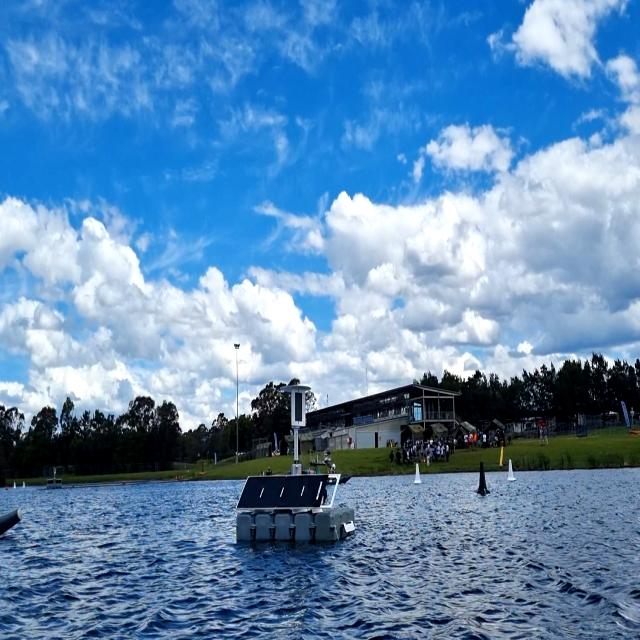led: (293, 389, 304, 425)
